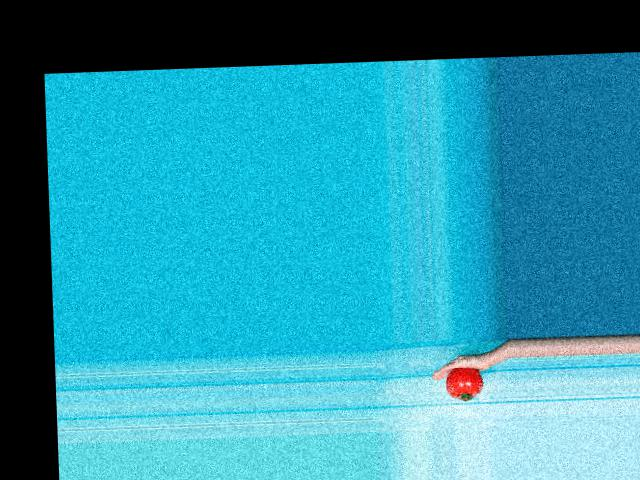tomato: (444, 366, 482, 400)
